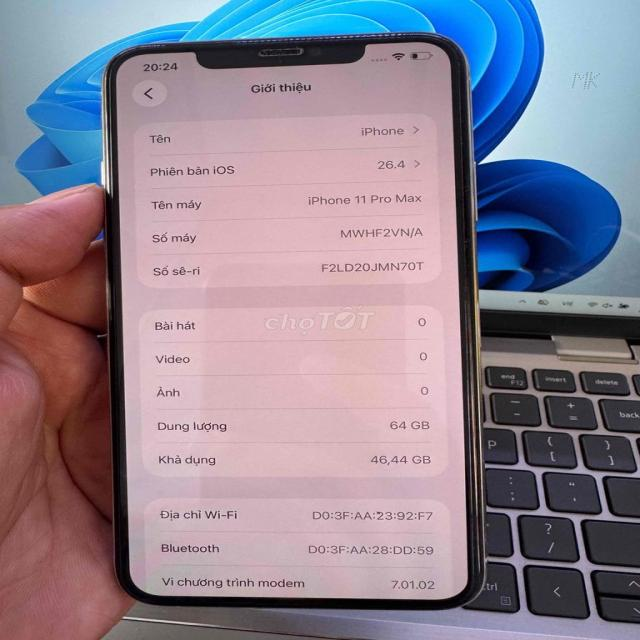scratch: (121, 32, 447, 44)
